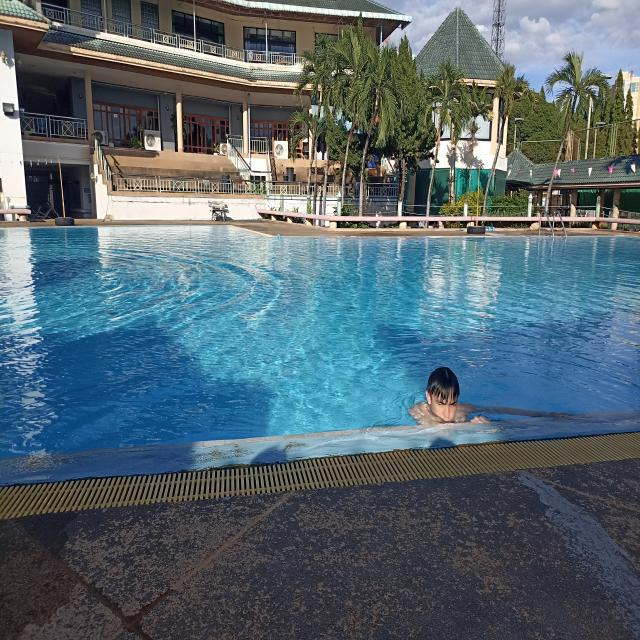Swimming: (406, 366, 492, 428)
